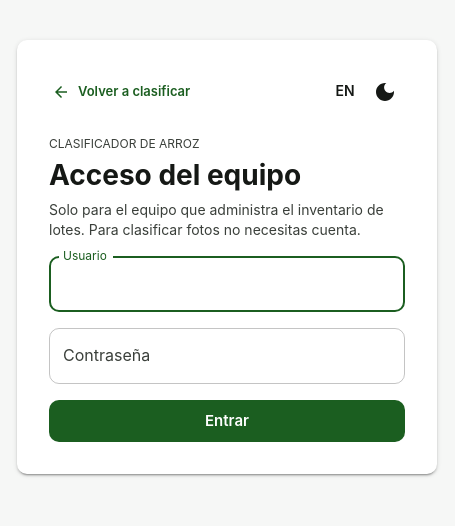
Test: PaginaLogin › CA-01.2 muestra el mensaje de la API si las credenciales fallan
Type "admin" into the field labelled "Usuario". click: (227, 284)
box: [49,256,405,312]
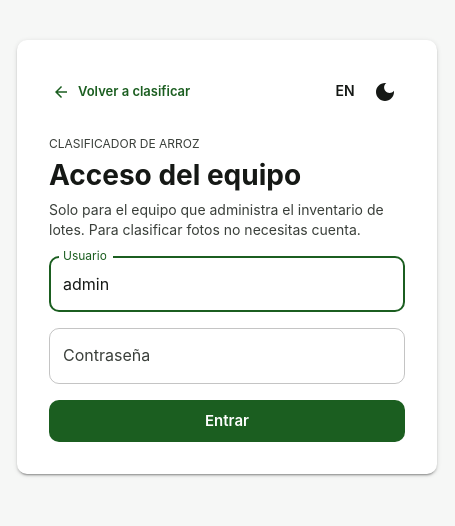
Type "mala" into the password field labelled "Contraseña". click: (227, 356)
box: [49,328,405,384]
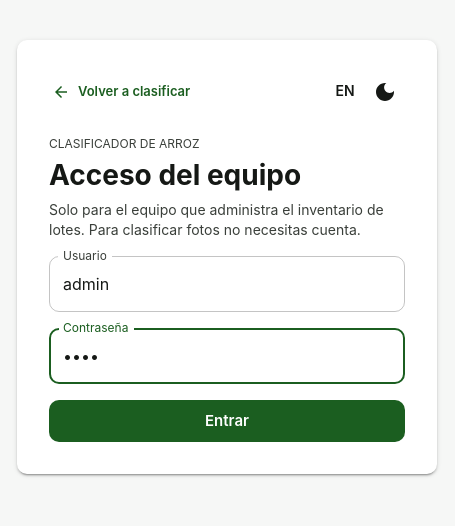
Click the button with test id "boton-entrar". click: (227, 421)
box: [49,400,405,442]
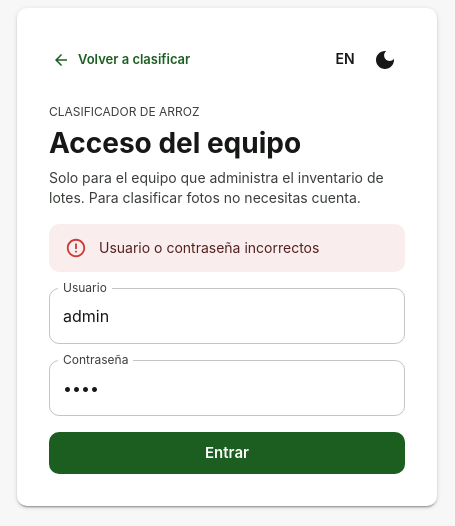
Expected: the message with test id "error-login" reads "Usuario o contraseña incorrectos", [99,239,319,256]
